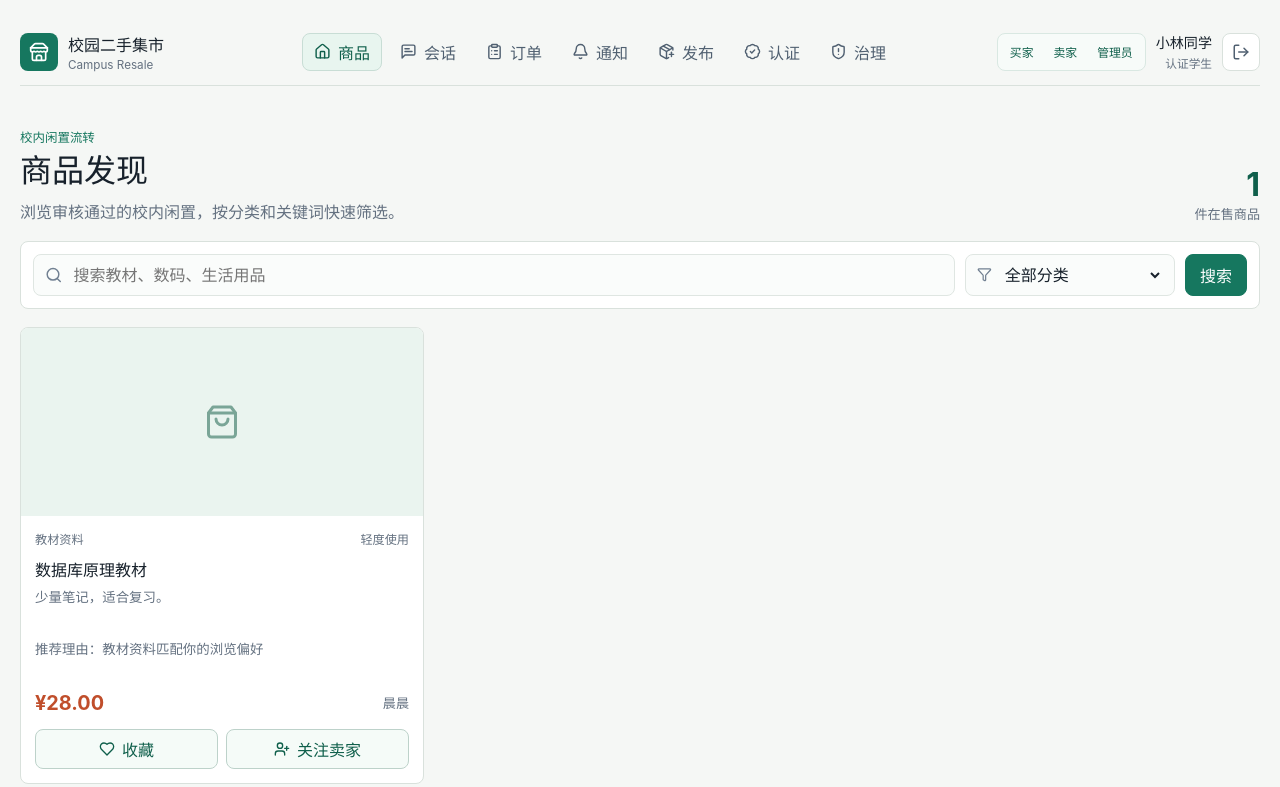
Scenario: App › shows AI publishing assistance and discovery reasons
This screenshot has width=1280, height=787.
Expected: the heading "数据库原理教材" is shown, [35,560,147,580]
Expected: the text "推荐理由：教材资料匹配你的浏览偏好" is shown, [35,641,264,657]
Click the button "发布" at (686, 52), box [646,32,726,70]
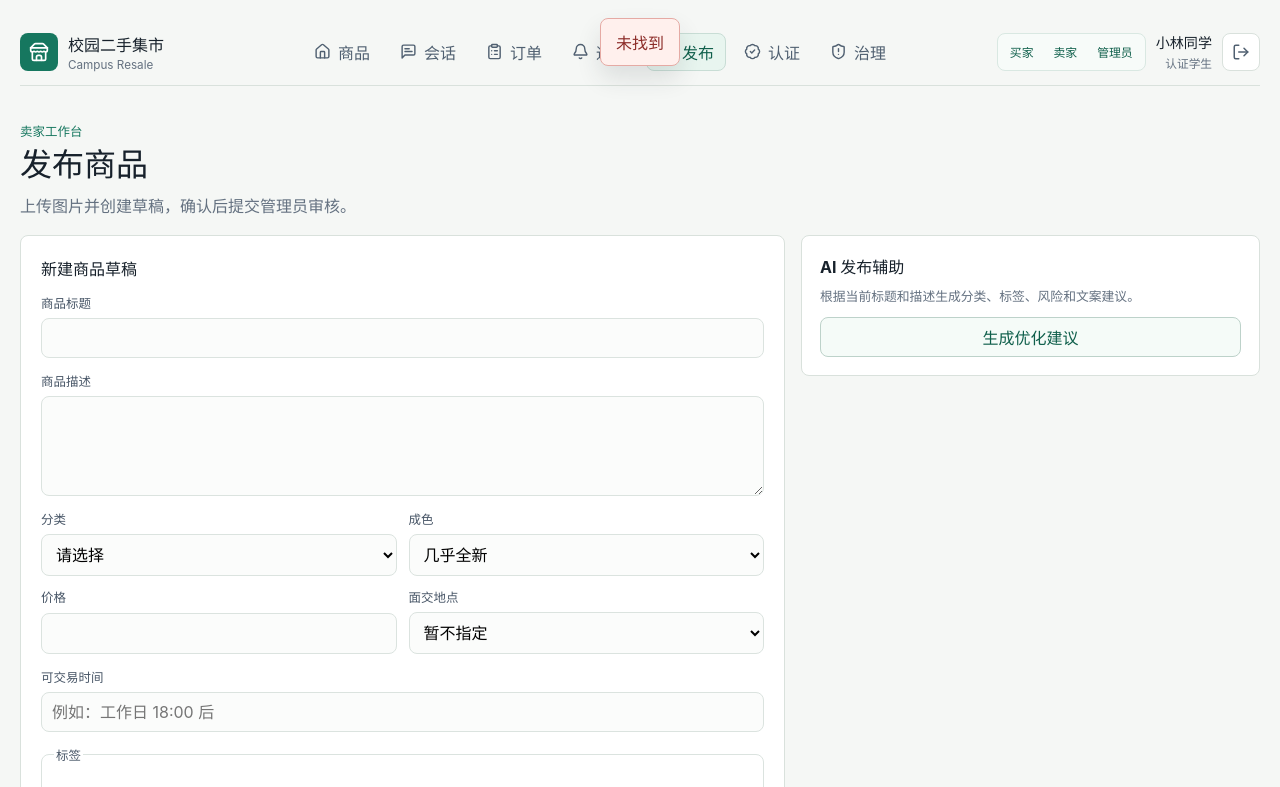
Expected: the heading "AI 发布辅助" is shown, [820,254,904,278]
Type "旧书" into the field labelled "商品标题" at (402, 338), box [41,318,764,358]
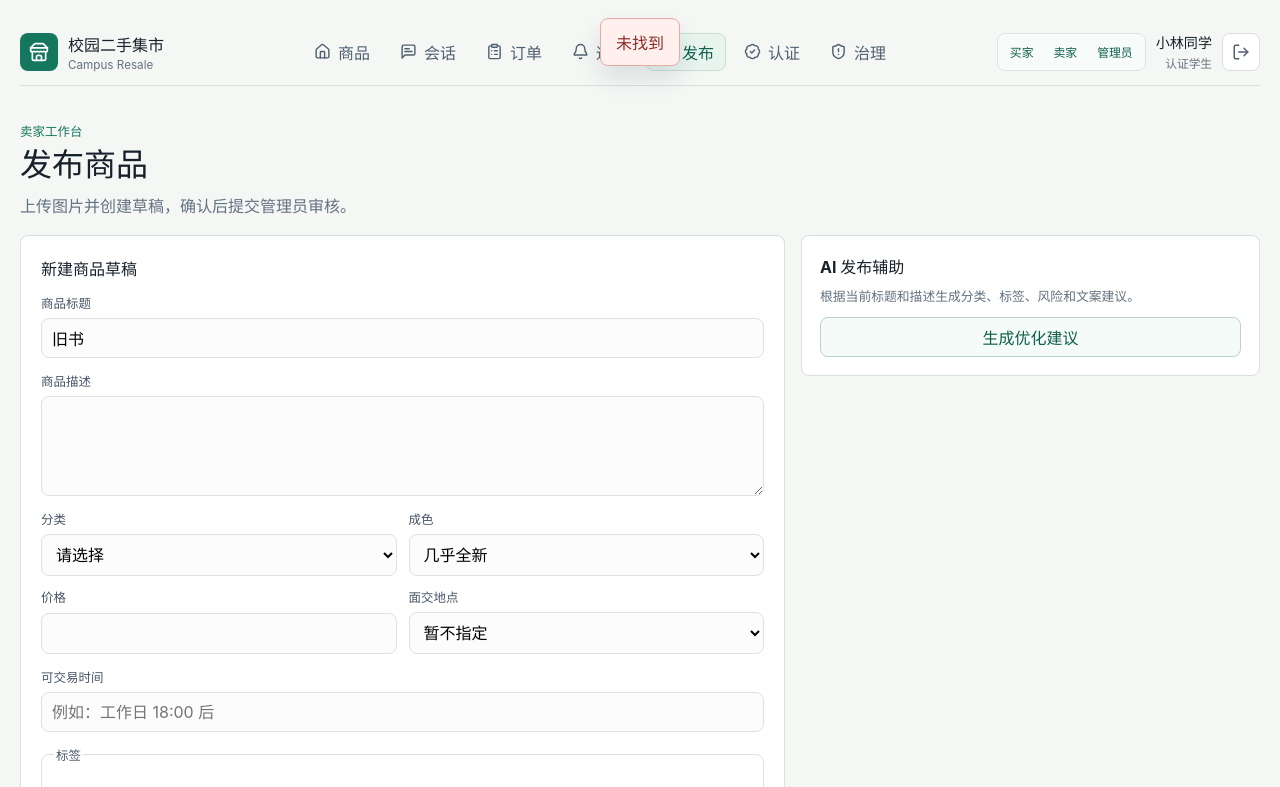
Type "数据库课程复习资料，包含笔记。" into the text box labelled "商品描述" at (402, 446), box [41,396,764,496]
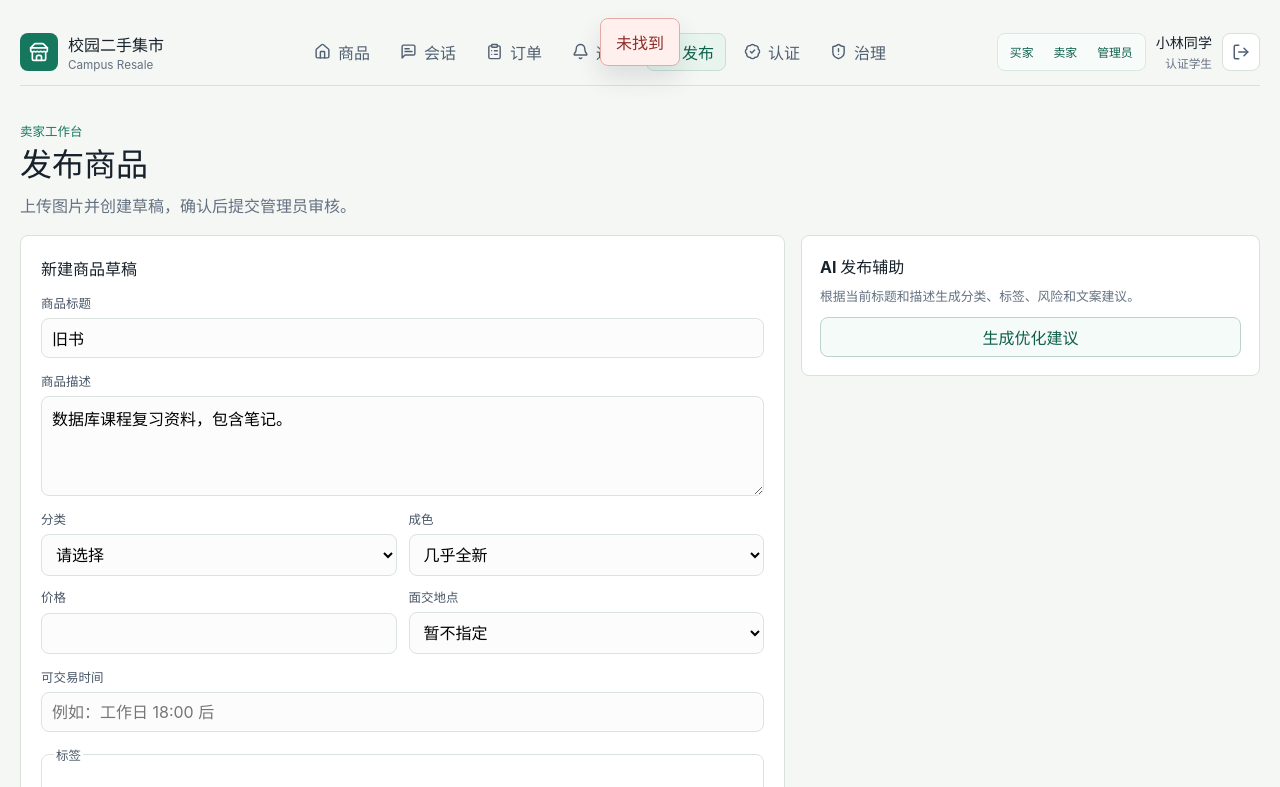
Click the button "生成优化建议" at (1030, 337), box [820,317,1241,357]
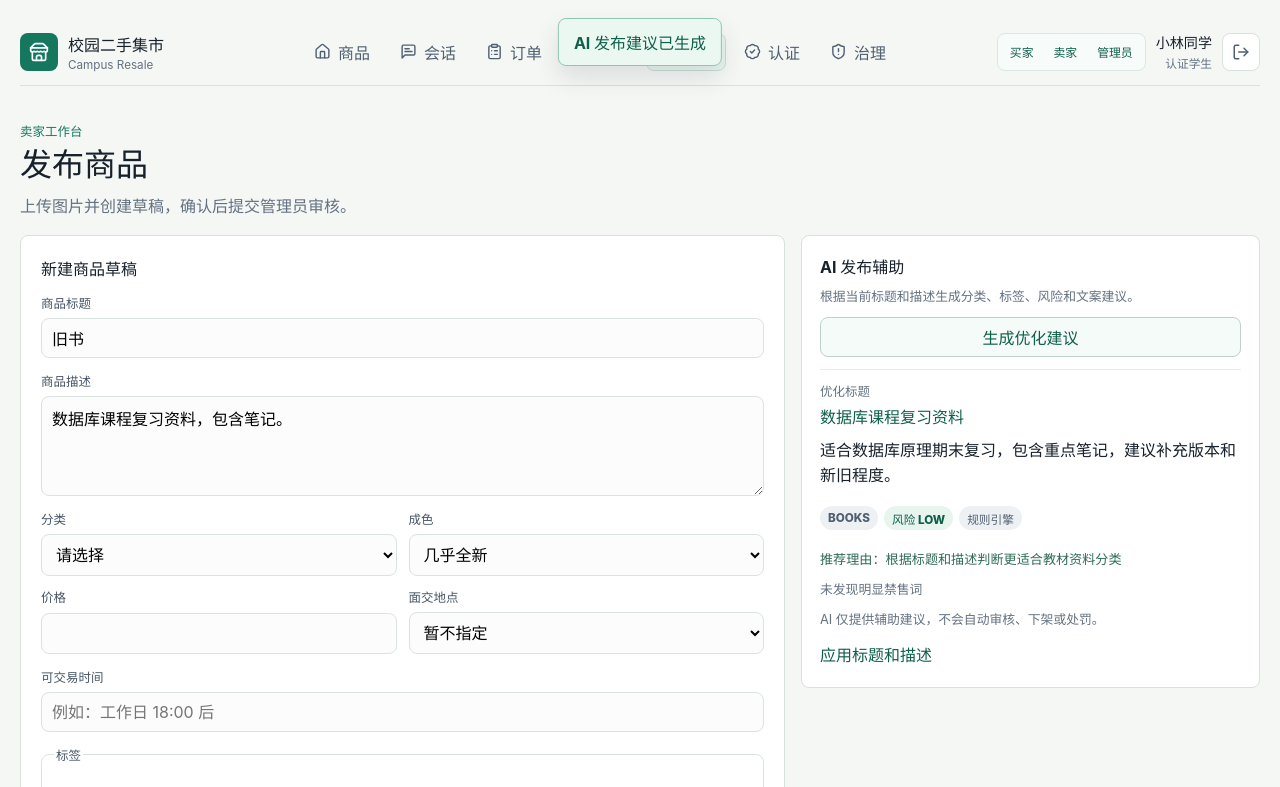
Expected: the text "数据库课程复习资料" is shown, [820,407,964,427]
Expected: the text "AI 仅提供辅助建议，不会自动审核、下架或处罚。" is shown, [820,612,1105,627]
